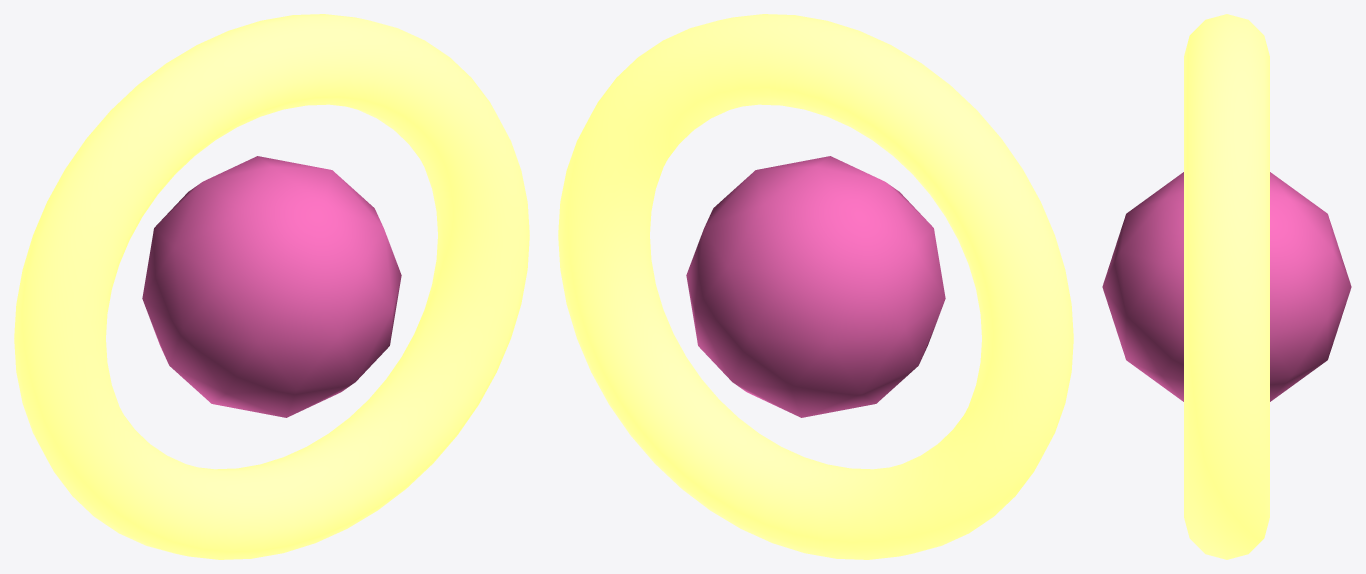
Rendered from SM_PowerUp_Orb.fbx.
3 renders of one model, left to right at view 1: azimuth 30°, elevation 25°; view 2: azimuth 150°, elevation 25°; view 3: azimuth 270°, elevation 25°, orthographic. The views are drawn at different scales.
Visible parts, largest first — view 1: SM_PowerUp_Orb; view 2: SM_PowerUp_Orb; view 3: SM_PowerUp_Orb.
Boxes of the visible parts, <box> form: SM_PowerUp_Orb: <box>14,14,529,559</box>; SM_PowerUp_Orb: <box>558,14,1073,559</box>; SM_PowerUp_Orb: <box>1102,14,1351,559</box>.
Bounding box in the file's own units: 57 × 26 × 57.
